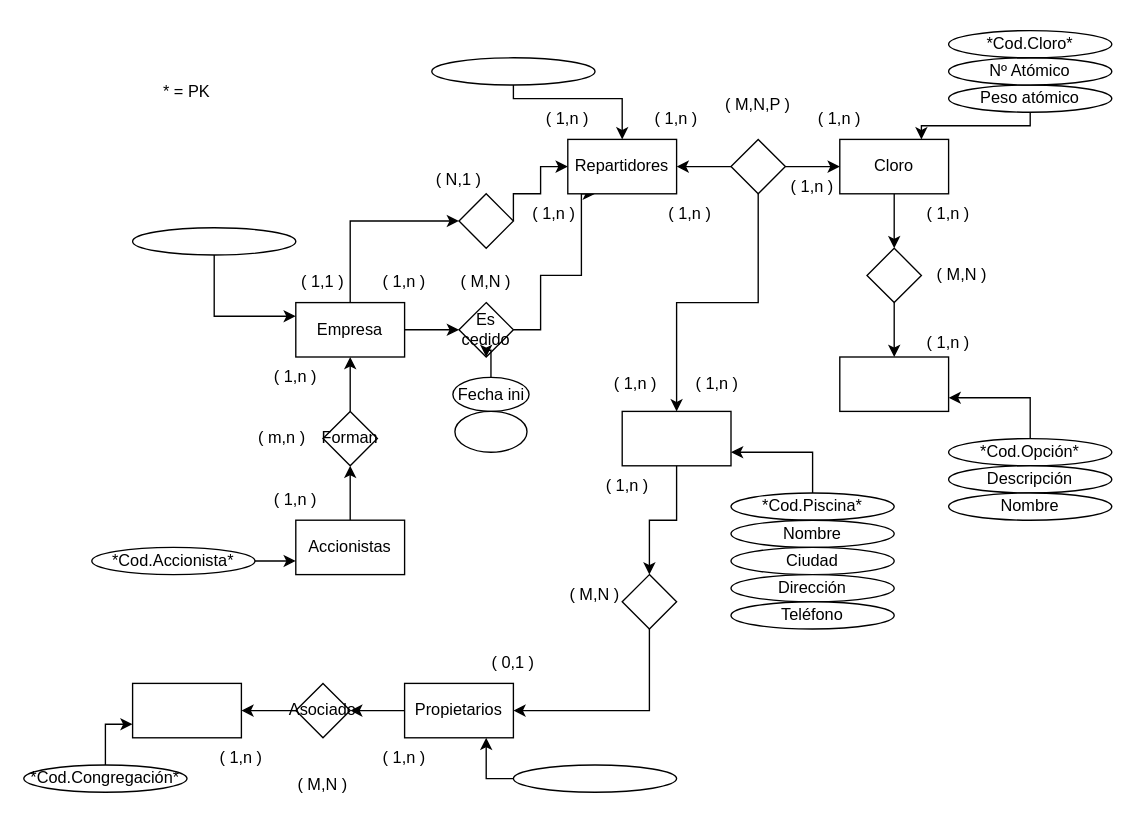
The diagram is 1136 pixels wide and 828 high, and some of its shapes have lost their labels. The shapes that lost their labels are listed below. From the top down, each one's centre as x and y in pixels, then its label:
At pixel 512 70: "*Cod.Repartidores*".
At pixel 757 166: "Reparten".
At pixel 213 240: "*Cod.Empresa*".
At pixel 485 220: "Trabajan".
At pixel 893 275: "Posee".
At pixel 893 383: "Opc. cloro".
At pixel 490 431: "Fecha fin".
At pixel 676 438: "Piscina".
At pixel 649 601: "Tienen".
At pixel 186 710: "Congregación".
At pixel 594 778: "*Cod.Propietarios".
